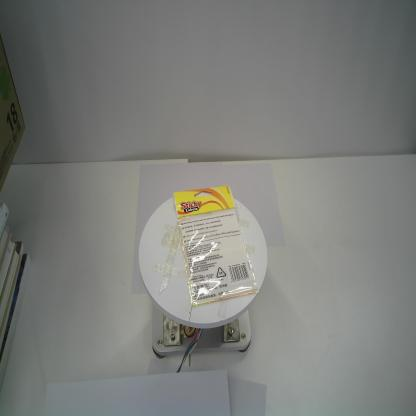Stationery: (172, 183, 260, 308)
